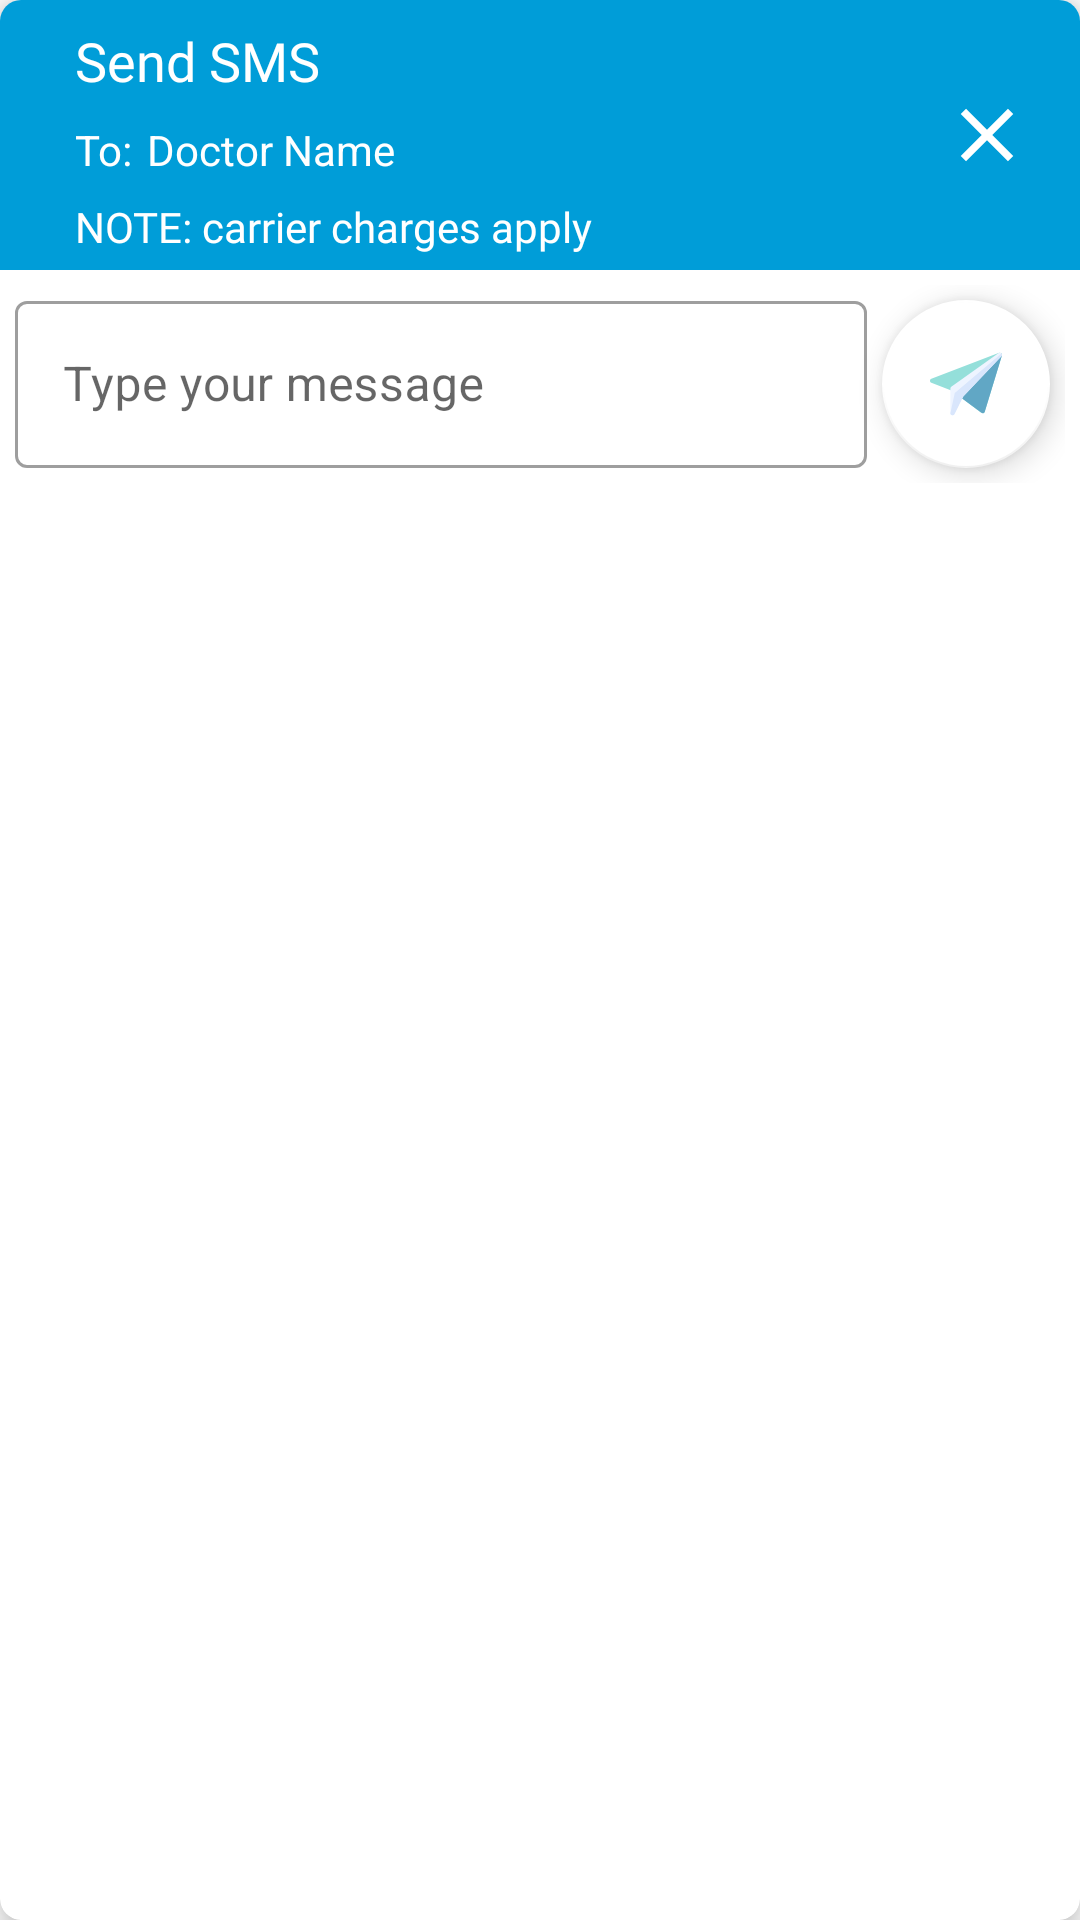

Screen size 1080×1920. Icon name, then its center in pixels as [x,y]:
Close: [987,135]
